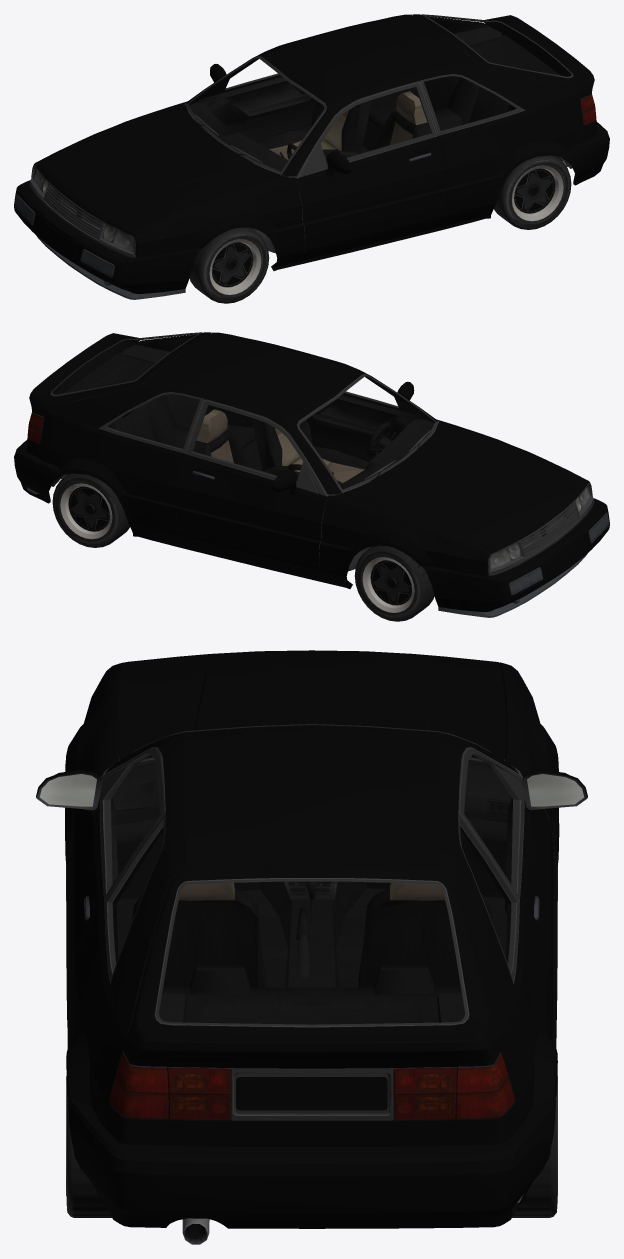
The model's file is volkswagen_corrado_vr6_-_low_poly_model.glb.
The picture shows the model from 3 angles, top to bottom: view 1: azimuth 30°, elevation 25°; view 2: azimuth 150°, elevation 25°; view 3: azimuth 270°, elevation 25°; orthographic projection. The views are drawn at different scales.
Parts seen in each view (by area): view 1: body_corr_body_0, hood_corr_body_0, body_corr_interior_0, door_left_corr_body_0, fender_left_corr_body_0, bumper_front_corr_body_0, door_right_corr_interior_0, WHEEL_01_Material #1016_0, WHEEL_02_Material #1016_0, body_corr_bottom_0, trunk_door_corr_body_0, door_left_corr_bottom_0 (+6 smaller); view 2: body_corr_body_0, hood_corr_body_0, body_corr_interior_0, door_right_corr_body_0, fender_right_corr_body_0, bumper_front_corr_body_0, WHEEL_04_Material #1016_0, door_left_corr_interior_0, WHEEL_03_Material #1016_0, body_corr_bottom_0, trunk_door_corr_body_0, door_right_corr_bottom_0 (+6 smaller); view 3: body_corr_body_0, body_corr_interior_0, bumper_rear_corr_body_0, hood_corr_body_0, trunk_door_corr_body_0, trunk_door_corr_bottom_0, trunk_door_corr_lights_0, trunk_door_Material #574_0, door_left_corr_body_0, door_right_corr_body_0, fender_right_corr_body_0, fender_left_corr_body_0 (+9 smaller).
Boxes of the visible parts, x1=… form: body_corr_body_0: x1=76, y1=14, x2=597, y2=270; hood_corr_body_0: x1=36, y1=105, x2=280, y2=234; body_corr_interior_0: x1=189, y1=18, x2=560, y2=171; door_left_corr_body_0: x1=296, y1=136, x2=447, y2=252; fender_left_corr_body_0: x1=130, y1=175, x2=306, y2=261; bumper_front_corr_body_0: x1=14, y1=180, x2=201, y2=294; door_right_corr_interior_0: x1=196, y1=75, x2=317, y2=142; WHEEL_01_Material #1016_0: x1=189, y1=227, x2=269, y2=303; WHEEL_02_Material #1016_0: x1=494, y1=155, x2=571, y2=229; body_corr_bottom_0: x1=29, y1=56, x2=572, y2=257; trunk_door_corr_body_0: x1=413, y1=14, x2=594, y2=98; door_left_corr_bottom_0: x1=296, y1=81, x2=437, y2=178; body_corr_body_0: x1=26, y1=332, x2=546, y2=588; hood_corr_body_0: x1=343, y1=423, x2=587, y2=552; body_corr_interior_0: x1=63, y1=336, x2=434, y2=489; door_right_corr_body_0: x1=176, y1=454, x2=327, y2=570; fender_right_corr_body_0: x1=317, y1=493, x2=493, y2=579; bumper_front_corr_body_0: x1=422, y1=498, x2=609, y2=612; WHEEL_04_Material #1016_0: x1=354, y1=545, x2=434, y2=621; door_left_corr_interior_0: x1=306, y1=393, x2=427, y2=462; WHEEL_03_Material #1016_0: x1=52, y1=473, x2=129, y2=547; body_corr_bottom_0: x1=51, y1=374, x2=594, y2=575; trunk_door_corr_body_0: x1=29, y1=332, x2=210, y2=416; door_right_corr_bottom_0: x1=186, y1=399, x2=327, y2=496; body_corr_body_0: x1=66, y1=725, x2=557, y2=1146; body_corr_interior_0: x1=112, y1=759, x2=511, y2=1024; bumper_rear_corr_body_0: x1=68, y1=1097, x2=555, y2=1228; hood_corr_body_0: x1=117, y1=650, x2=506, y2=760; trunk_door_corr_body_0: x1=123, y1=865, x2=501, y2=1068; trunk_door_corr_bottom_0: x1=154, y1=878, x2=469, y2=1120; trunk_door_corr_lights_0: x1=167, y1=1067, x2=456, y2=1120; trunk_door_Material #574_0: x1=236, y1=1077, x2=387, y2=1110; door_left_corr_body_0: x1=36, y1=769, x2=104, y2=1019; door_right_corr_body_0: x1=519, y1=769, x2=587, y2=1019; fender_right_corr_body_0: x1=499, y1=662, x2=559, y2=865; fender_left_corr_body_0: x1=65, y1=662, x2=124, y2=863.
Size of what is drawn, in the model's own units: 160 by 47.46 by 74.54.
Materials: 10 (7 with a texture image).
